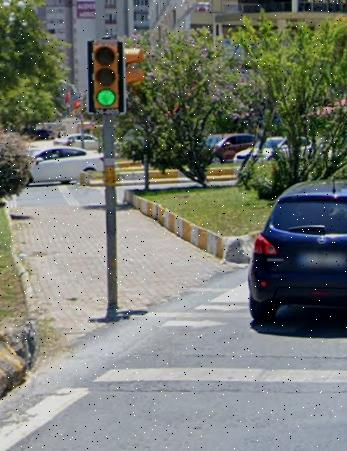greenlight: (88, 43, 125, 112)
